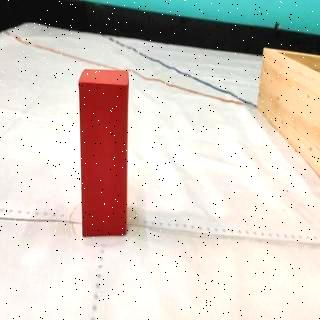redbox: (77, 68, 129, 238)
